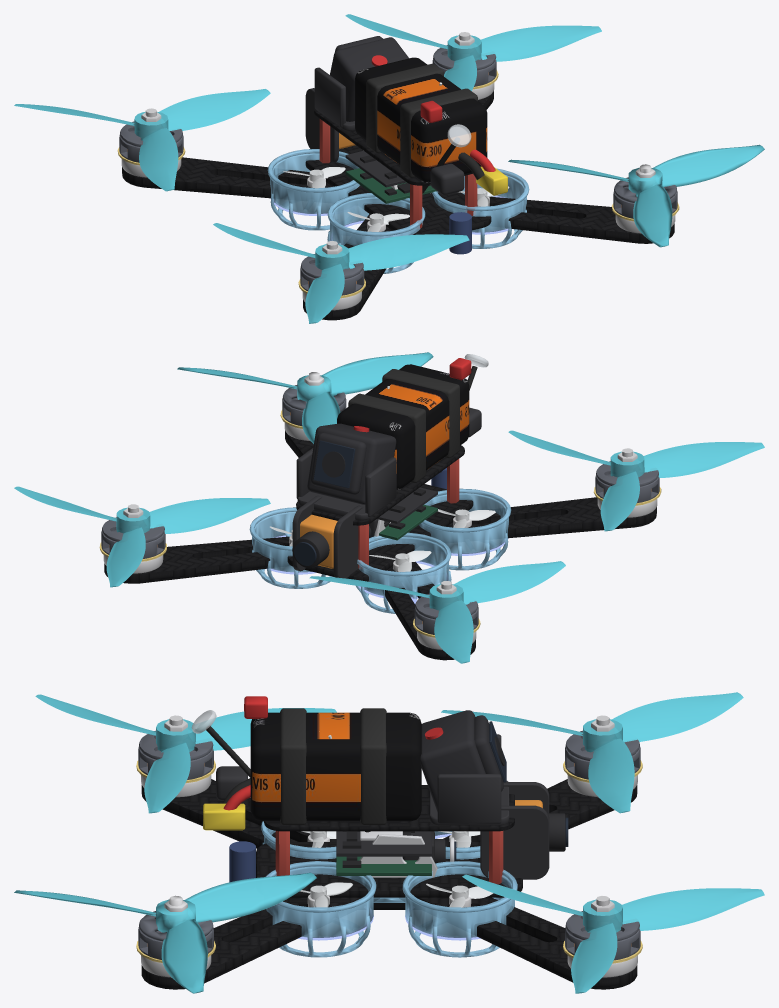
The model's file is fpv.glb.
The picture shows the model from 3 angles, top to bottom: view 1: azimuth 30°, elevation 25°; view 2: azimuth 150°, elevation 25°; view 3: azimuth 270°, elevation 25°; orthographic projection. The views are drawn at different scales.
Parts seen in each view (by area): view 1: quad_body, whoop_body, quad_rotor_rl, quad_rotor_fl, quad_rotor_rr, quad_rotor_fr; view 2: quad_body, whoop_body, quad_rotor_rl, quad_rotor_fr, quad_rotor_fl, quad_rotor_rr, quad_cam; view 3: quad_body, whoop_body, quad_rotor_fr, quad_rotor_rr, quad_rotor_fl, quad_rotor_rl, quad_cam, whoop_rotor_rr, whoop_led, whoop_rotor_fr, whoop_cam.
Boxes of the visible parts, box(x1,y1,x2,y2) form: quad_body: box(121, 36, 675, 320); whoop_body: box(267, 82, 529, 273); quad_rotor_rl: box(213, 223, 469, 323); quad_rotor_fl: box(14, 89, 270, 191); quad_rotor_rr: box(508, 144, 764, 247); quad_rotor_fr: box(345, 14, 601, 90); quad_body: box(103, 354, 657, 660); whoop_body: box(249, 386, 511, 613); quad_rotor_rl: box(508, 430, 764, 531); quad_rotor_fr: box(14, 486, 270, 587); quad_rotor_fl: box(309, 561, 565, 663); quad_rotor_rr: box(177, 352, 433, 443); quad_cam: box(292, 514, 337, 568); quad_body: box(141, 696, 637, 989); whoop_body: box(261, 735, 517, 957); quad_rotor_fr: box(462, 874, 764, 993); quad_rotor_rr: box(14, 872, 316, 993); quad_rotor_fl: box(441, 692, 743, 813); quad_rotor_rl: box(35, 694, 336, 813); quad_cam: box(515, 800, 568, 851); whoop_rotor_rr: box(299, 882, 352, 907); whoop_led: box(298, 833, 498, 940); whoop_rotor_fr: box(426, 883, 493, 907); whoop_cam: box(403, 831, 456, 864).
Bounding box in the file's own units: 0.2658 × 0.081 × 0.2816.
Materials: 29 (3 with a texture image).
